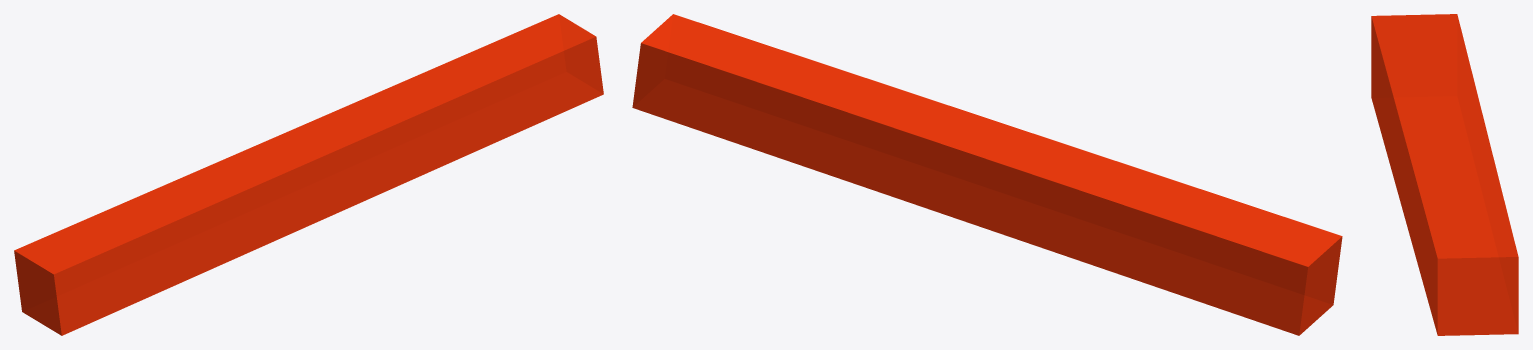
File: Event_420604493_EErechit_33.fbx
3 renders of one model, left to right at view 1: azimuth 30°, elevation 25°; view 2: azimuth 150°, elevation 25°; view 3: azimuth 270°, elevation 25°, orthographic. The views are drawn at different scales.
Visible parts, largest first — view 1: Model; view 2: Model; view 3: Model.
Part boxes in pixels (x1,y1,x2,y2): Model: (14,14,603,335); Model: (632,14,1342,335); Model: (1371,14,1518,335).
Size of the model in its own units: 0.734 by 0.1725 by 0.1317.
